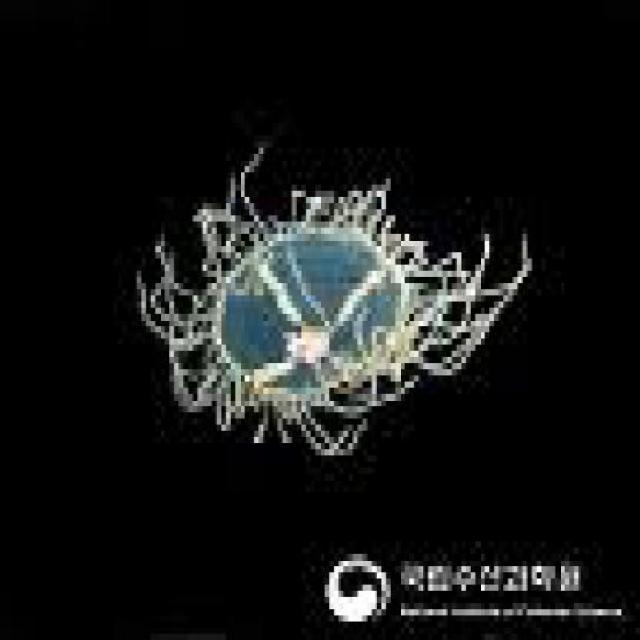Jellyfish: (90, 92, 532, 462)
